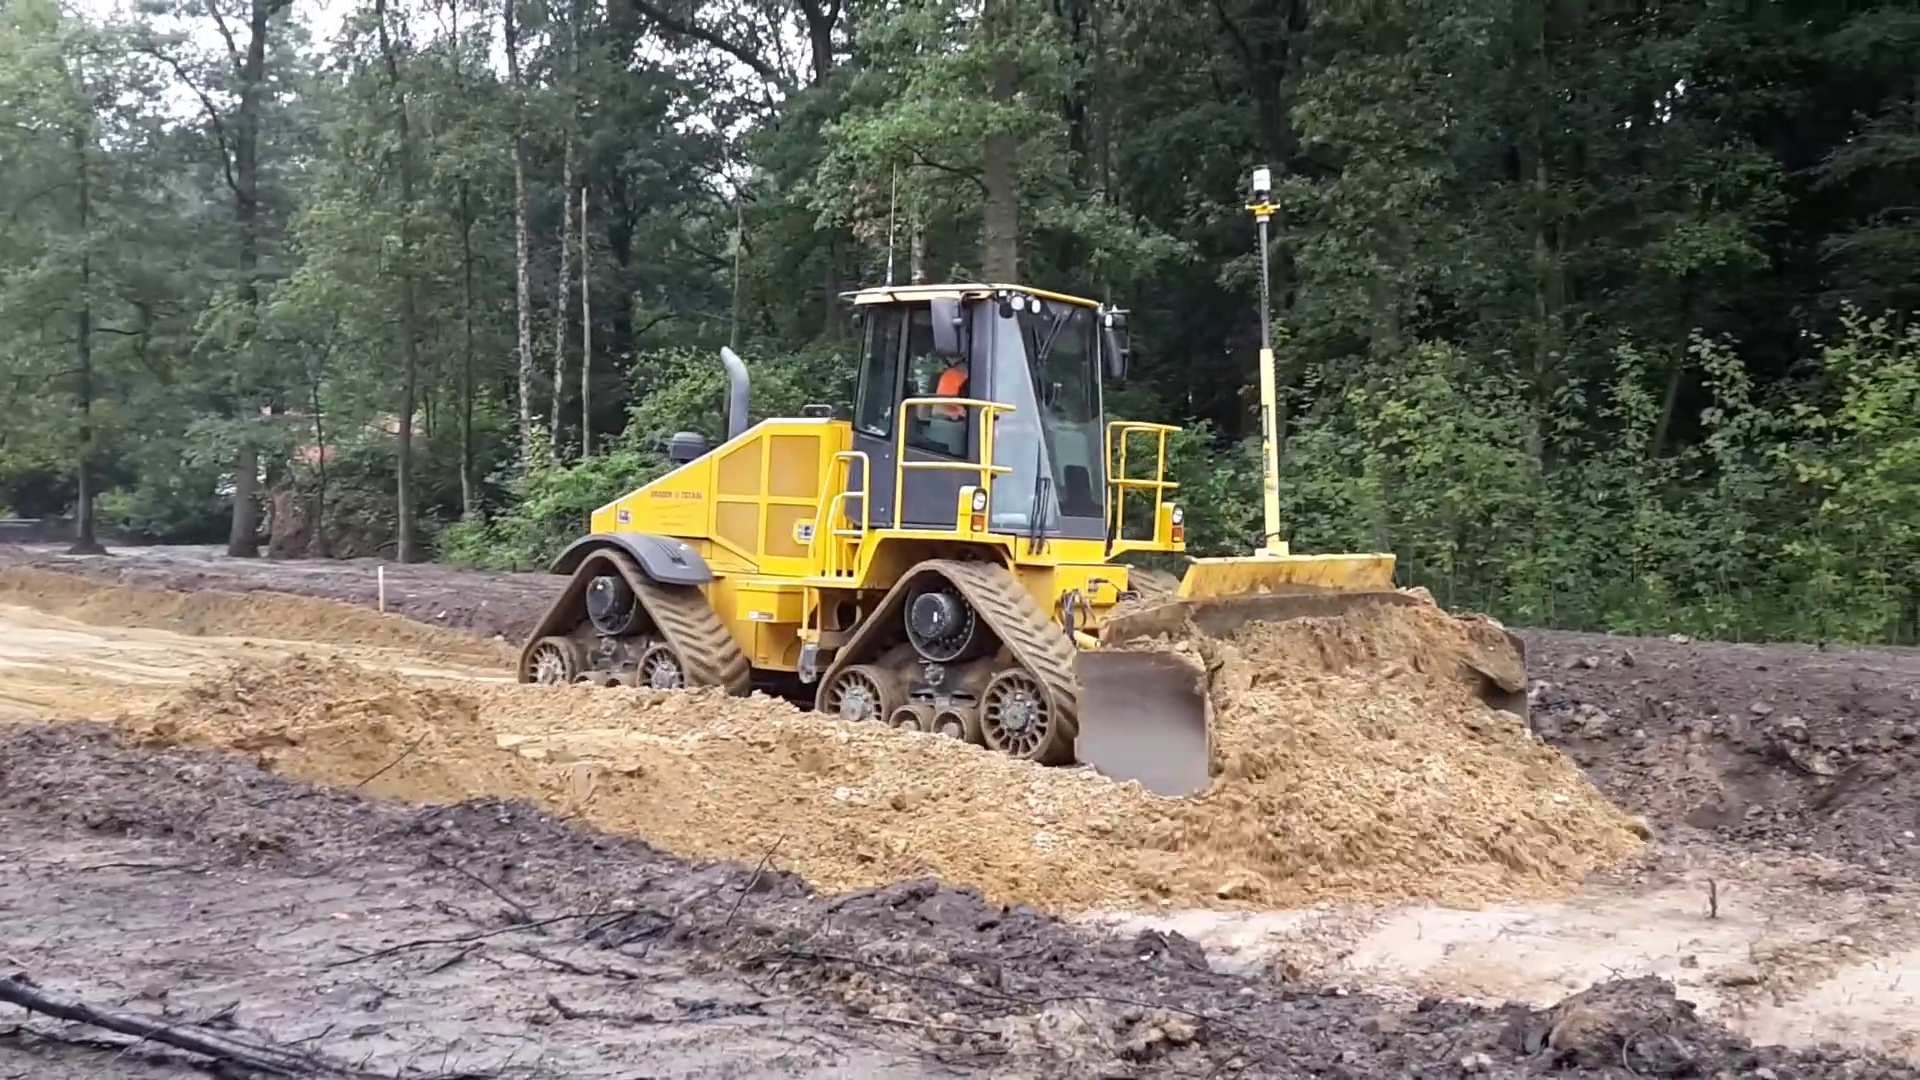bulldozer: (520, 277, 1547, 825)
